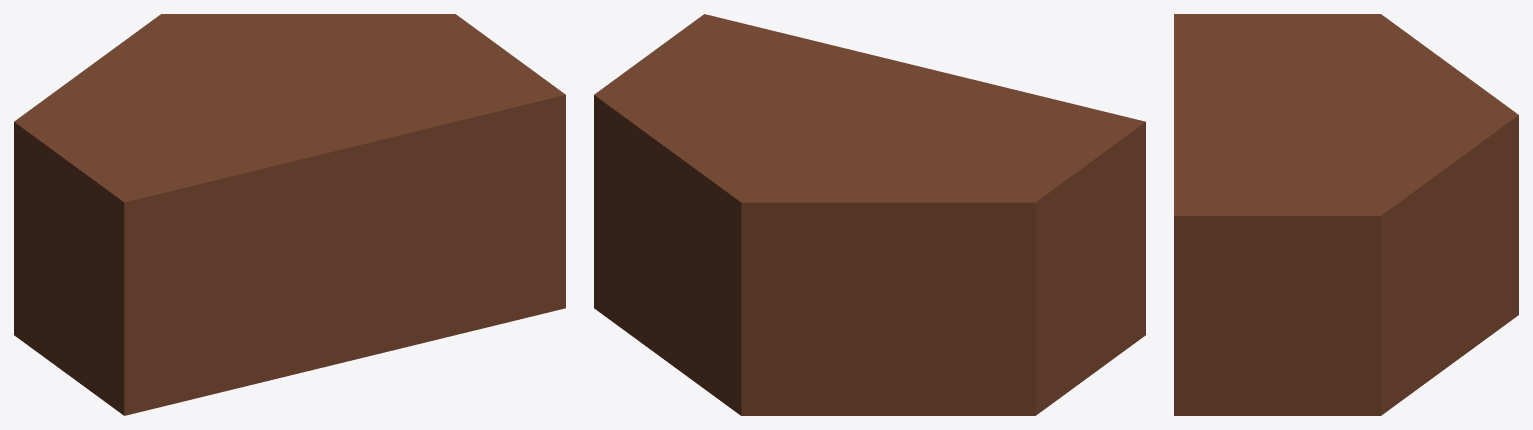
Rendered from _wooden_wall_3_t.glb.
3 views of the same model, side by side, from view 1: azimuth 30°, elevation 25°; view 2: azimuth 150°, elevation 25°; view 3: azimuth 270°, elevation 25° (orthographic). The views are drawn at different scales.
Parts seen in each view (by area): view 1: WoodenWallHalfFillTall; view 2: WoodenWallHalfFillTall; view 3: WoodenWallHalfFillTall.
Boxes of the visible parts, box(x1,y1,x2,y2) form: WoodenWallHalfFillTall: box(14, 14, 565, 415); WoodenWallHalfFillTall: box(594, 14, 1145, 415); WoodenWallHalfFillTall: box(1174, 14, 1518, 415).
Bounding box in the file's own units: 1.73 × 0.8 × 1.25.
Materials: 1 (1 with a texture image).
